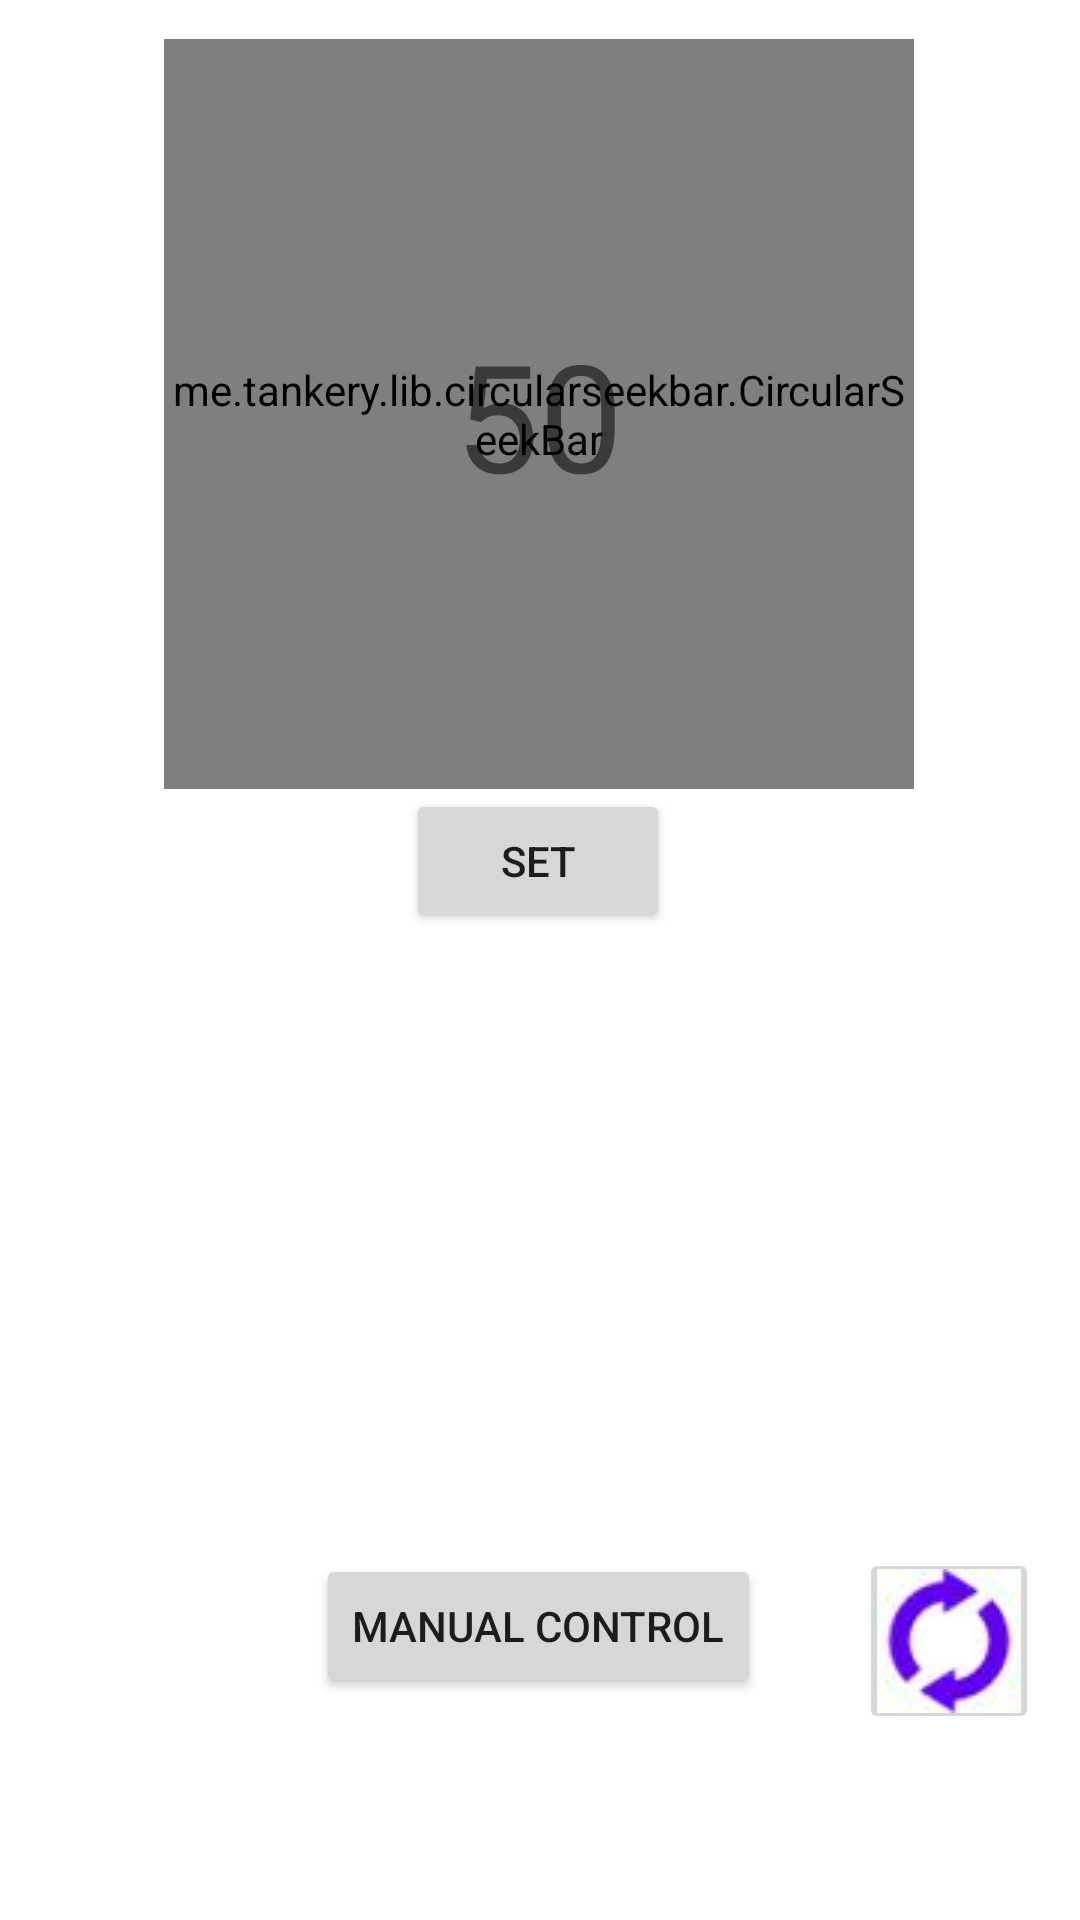

Icons on this 1080*1920 Android screen, each with the point to tap as (x,y):
refresh: (949,1641)
